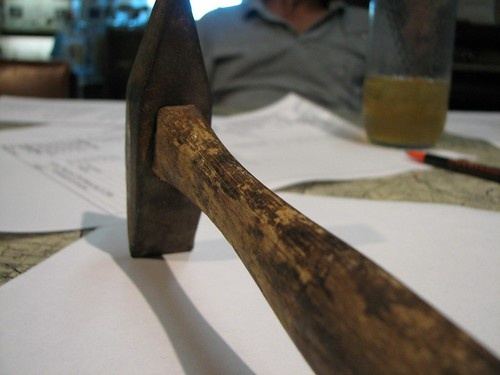hammer: (121, 1, 499, 375)
